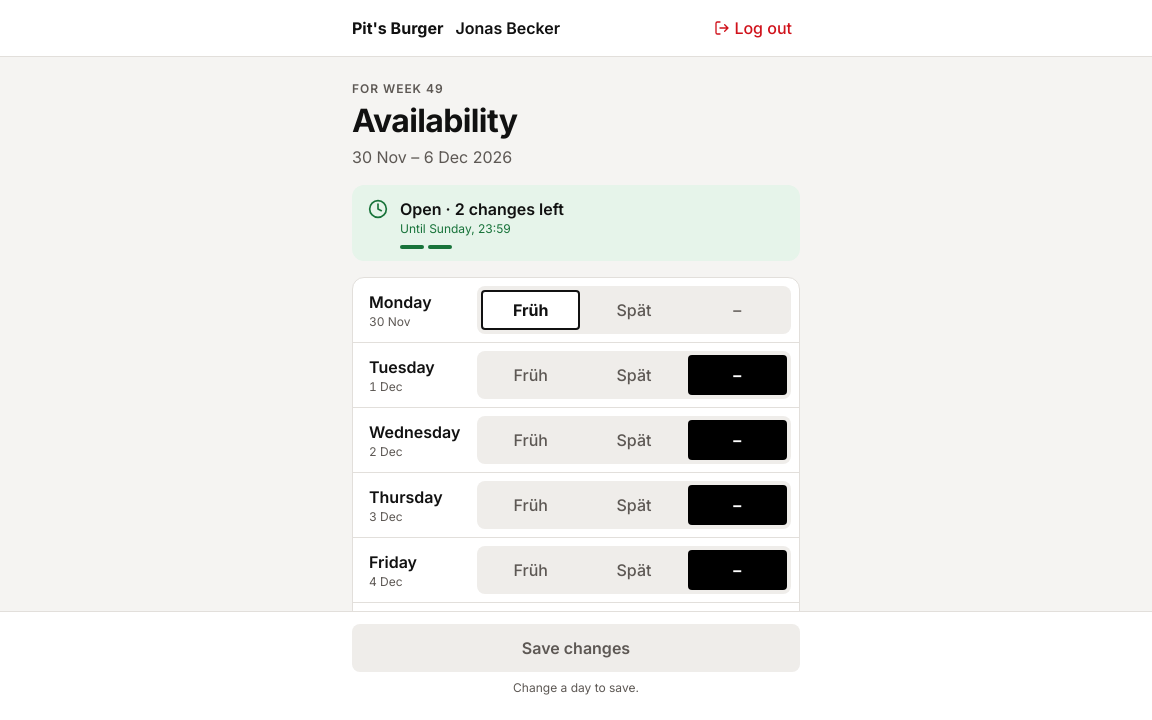
Test: Availability › shows a general server error
Click the radio button labelled "Spät" in the row of "Tuesday": click(634, 375) left=584, top=355, right=684, bottom=395
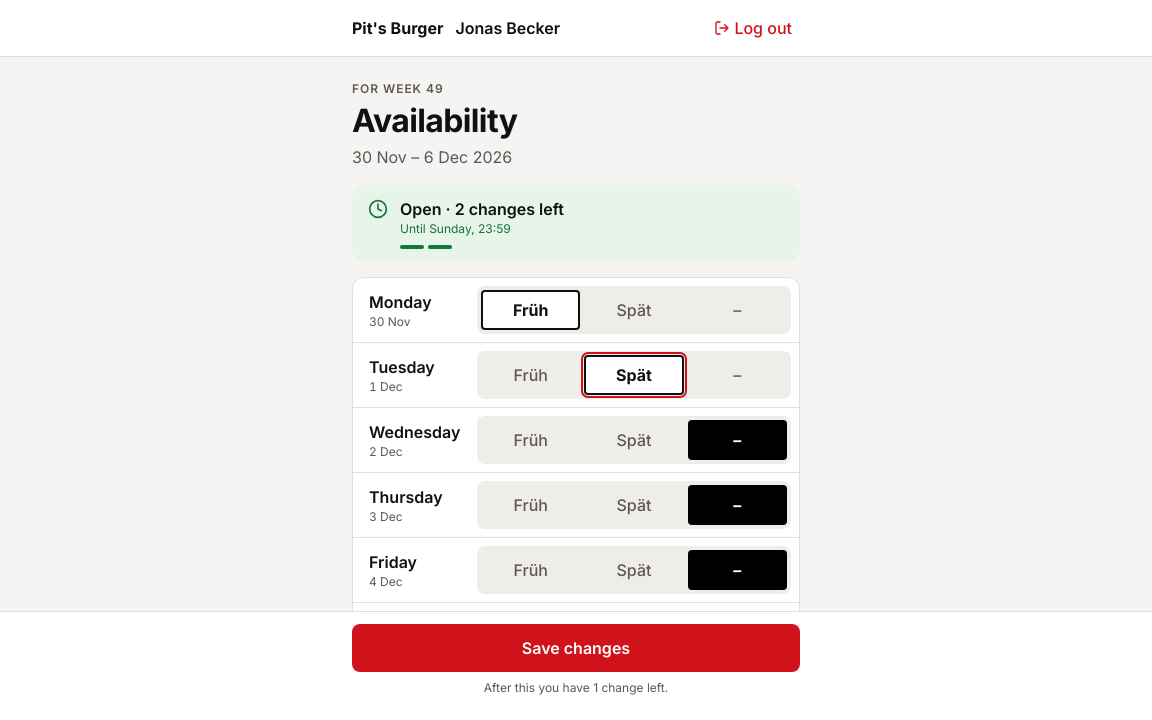
Click the button "Save changes": click(576, 648) left=352, top=624, right=800, bottom=672
(page scrolled)
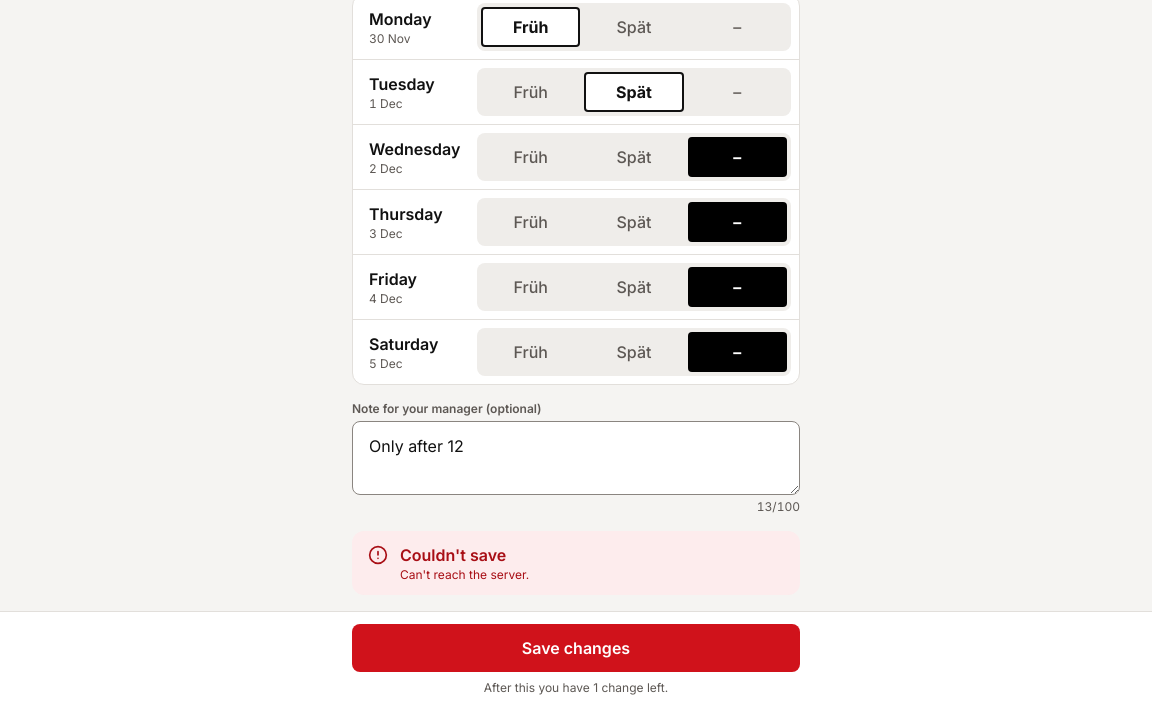
Expected: the message shows "Couldn't save", left=400, top=545, right=506, bottom=565
Expected: the message shows "Can't reach the server.", left=400, top=567, right=529, bottom=582
